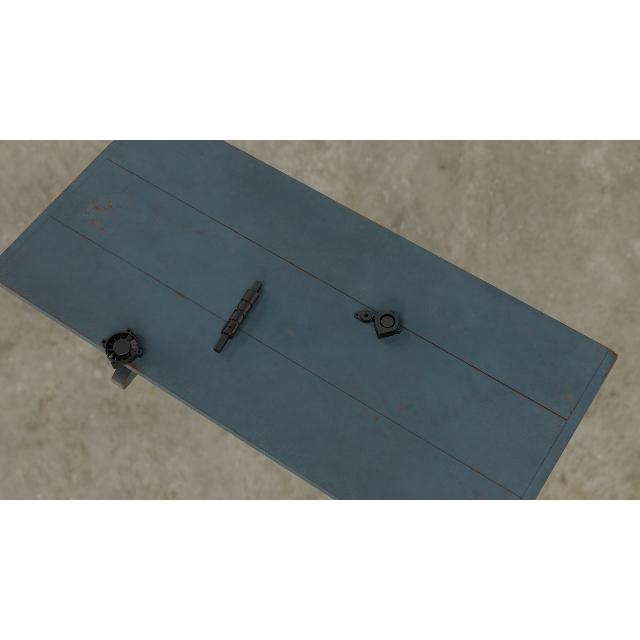Pieza1: (210, 278, 266, 356)
Pieza2: (353, 308, 379, 324)
Pieza3: (371, 308, 402, 339)
Pieza4: (100, 328, 144, 370)
